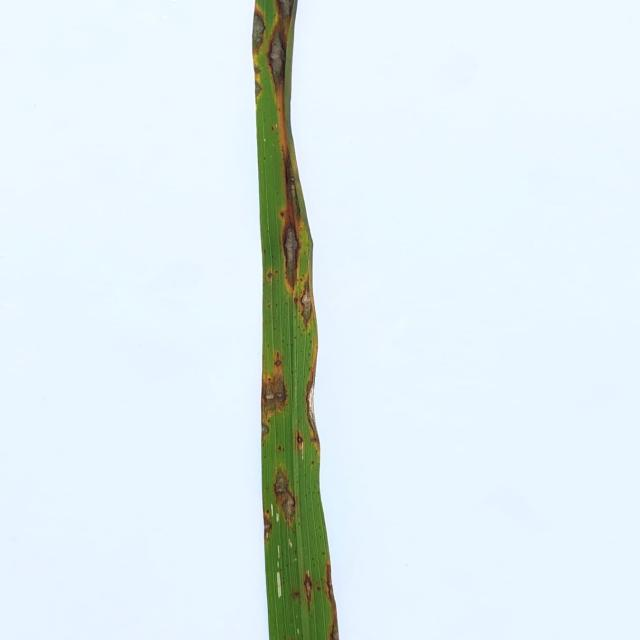leaf blast: (278, 223, 302, 292), (268, 20, 290, 93), (271, 464, 299, 521), (280, 146, 298, 223), (261, 372, 292, 415), (324, 562, 339, 640), (304, 366, 319, 440), (296, 280, 316, 328), (252, 6, 268, 54), (302, 572, 320, 606), (253, 64, 266, 100), (273, 0, 297, 19), (262, 515, 274, 541)
